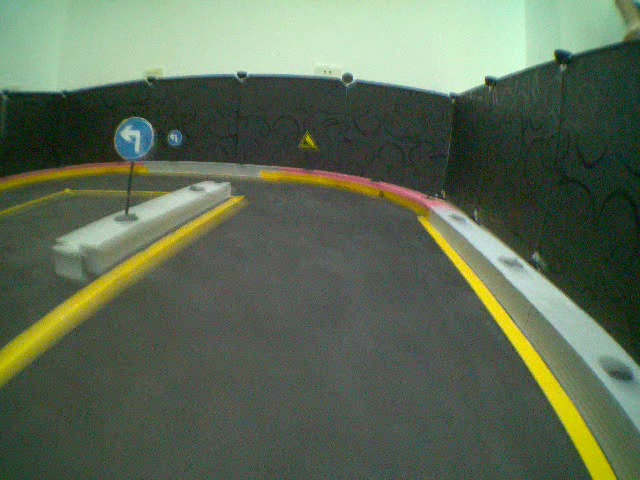fast: (294, 130, 317, 150)
turn: (112, 114, 154, 162), (167, 127, 183, 148)
